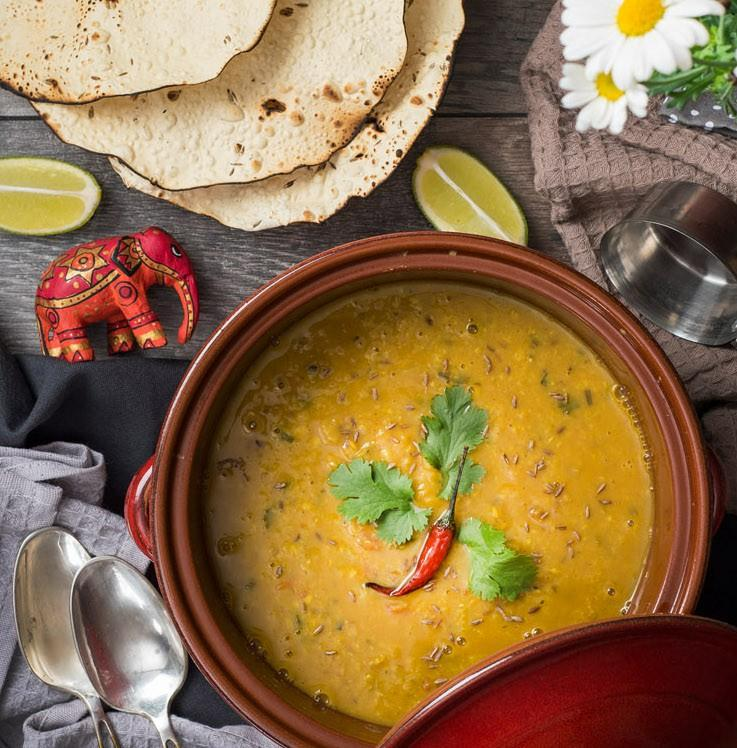Dal: (199, 280, 655, 728)
